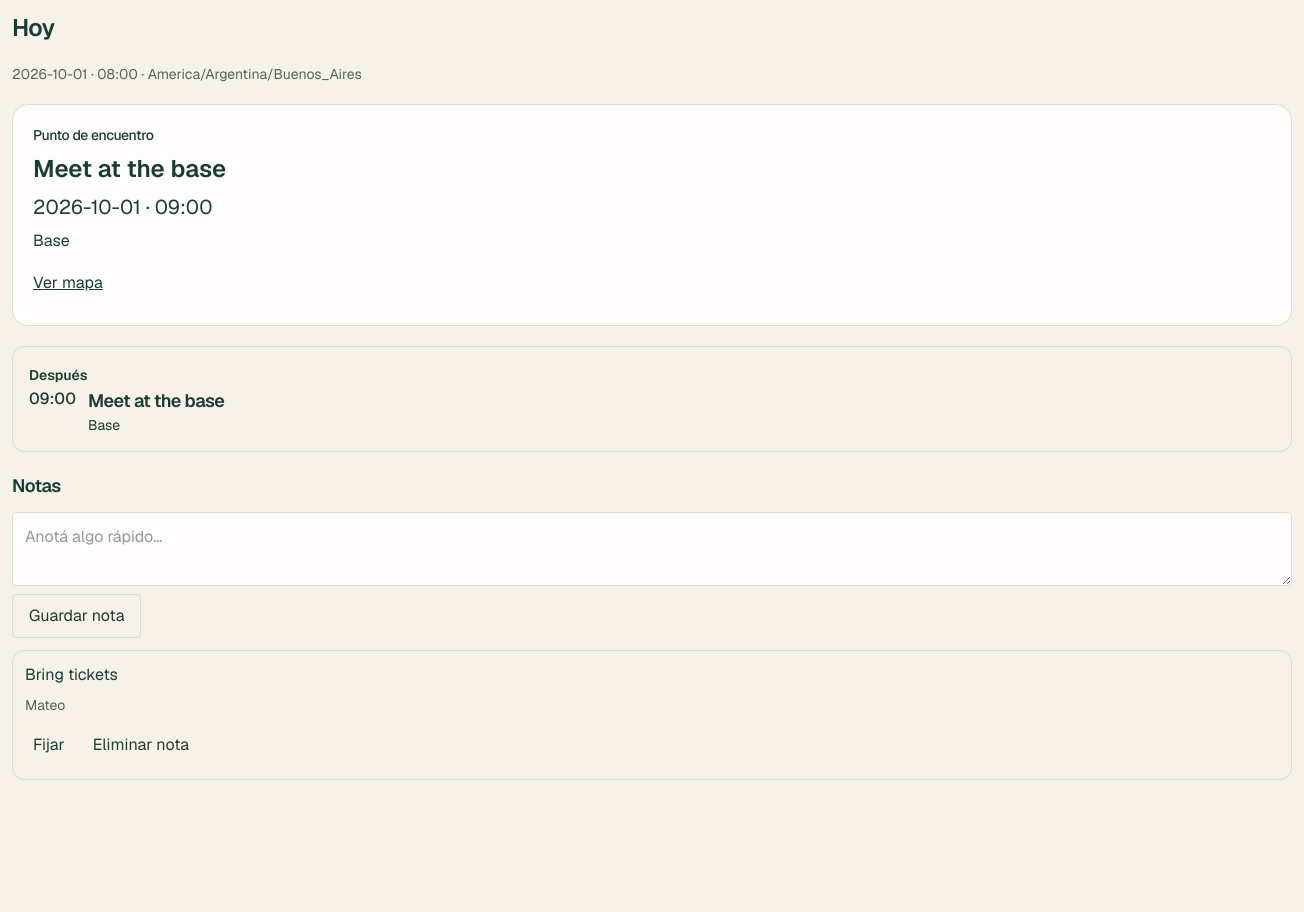
it: maps the pinned-note cap error without showing the developer message
Expected: the text "Bring tickets" is shown, [25, 664, 118, 685]
Click the button "Fijar" at (49, 745), box [25, 723, 73, 767]
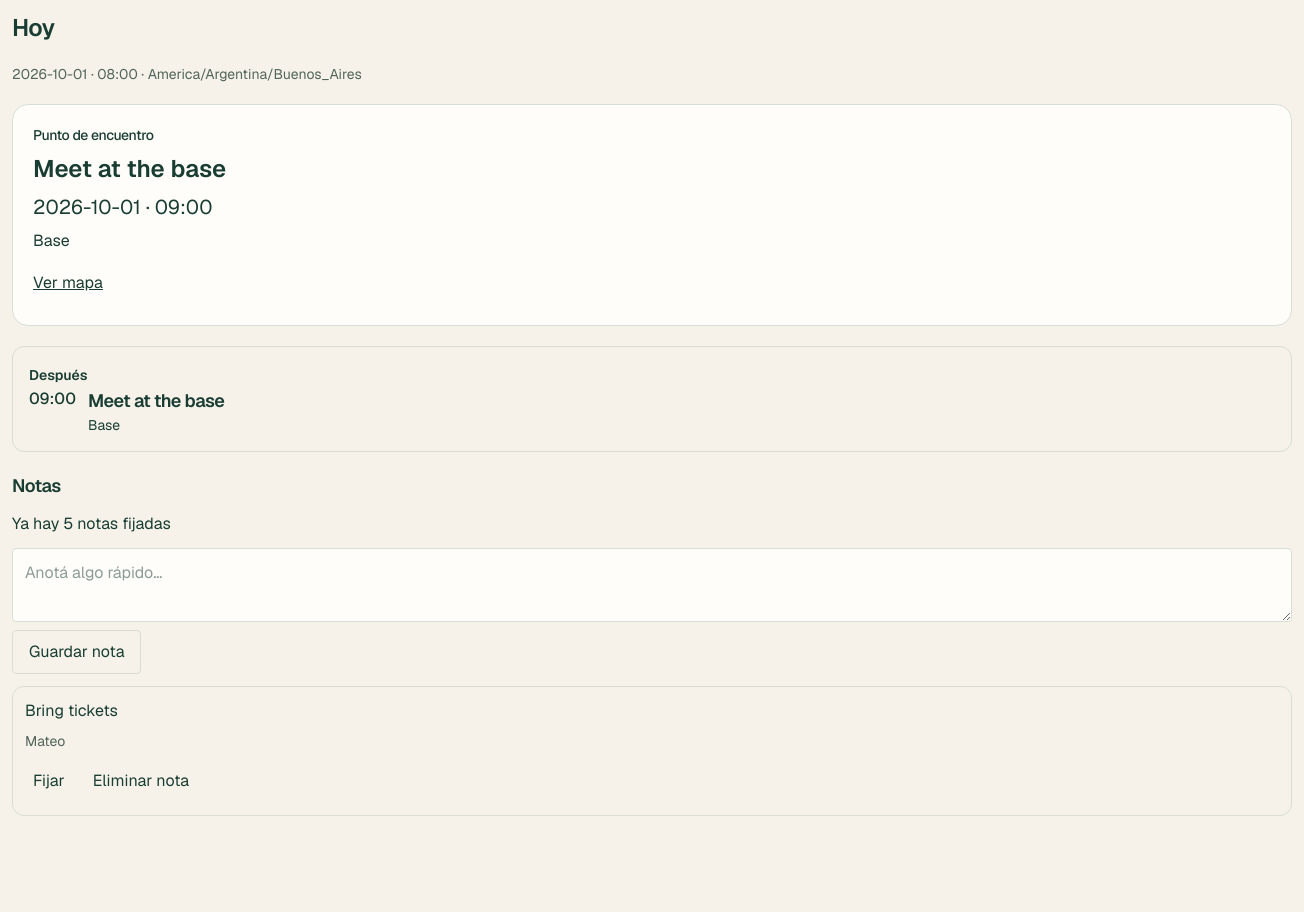
Expected: the message reads "Ya hay 5 notas fijadas", [12, 513, 171, 534]
